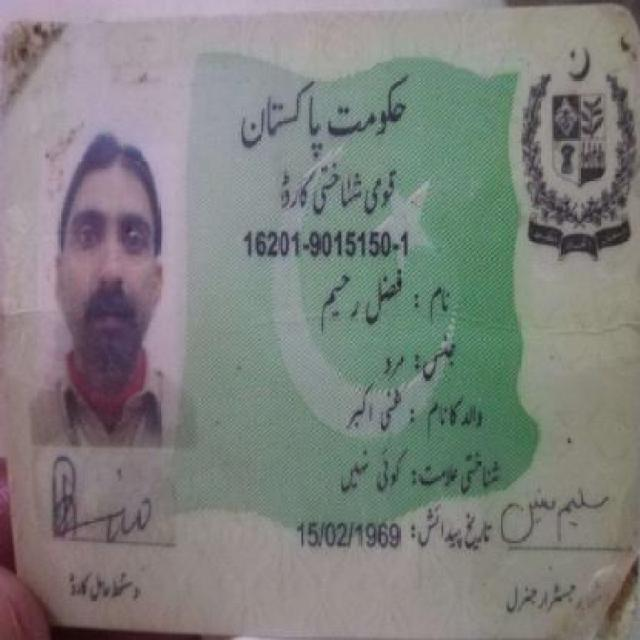Front: (9, 28, 638, 630)
